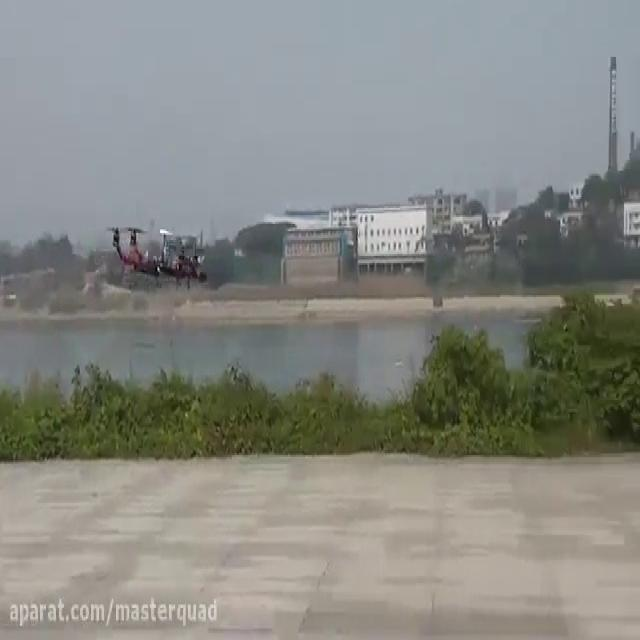drone: (102, 219, 210, 288)
